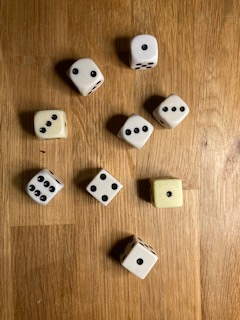four: (82, 167, 124, 206)
one: (116, 235, 159, 281), (128, 33, 160, 71), (150, 176, 185, 210)
six: (22, 167, 65, 207)
three: (114, 112, 156, 151), (151, 94, 192, 132), (33, 110, 69, 141)
two: (66, 56, 105, 98)
